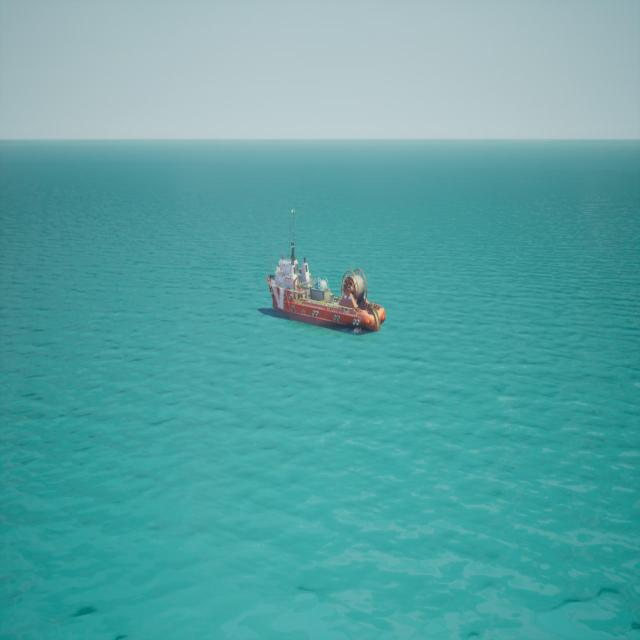tug boat: (260, 208, 386, 337)
